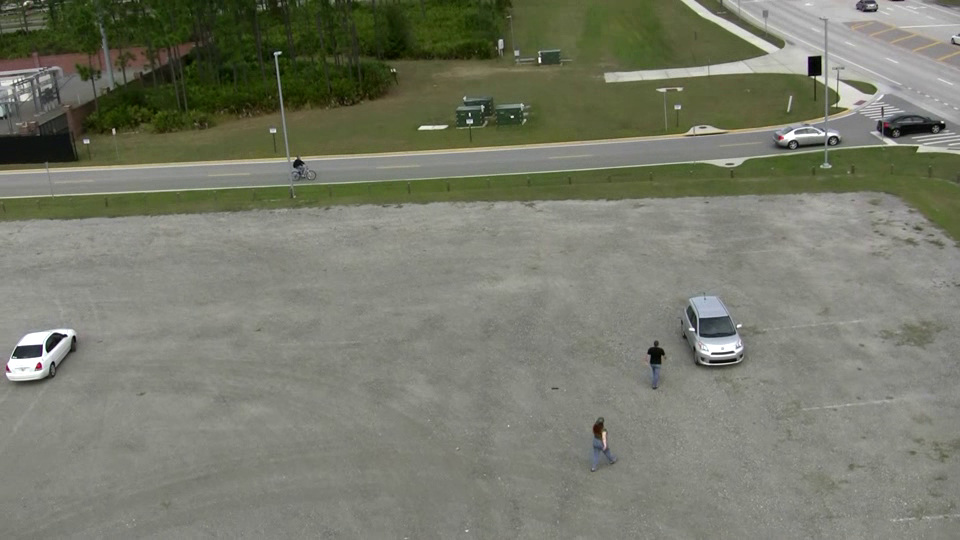vehicle: (680, 294, 746, 369), (4, 327, 78, 383), (772, 125, 843, 150), (877, 113, 946, 138), (290, 166, 317, 182)
